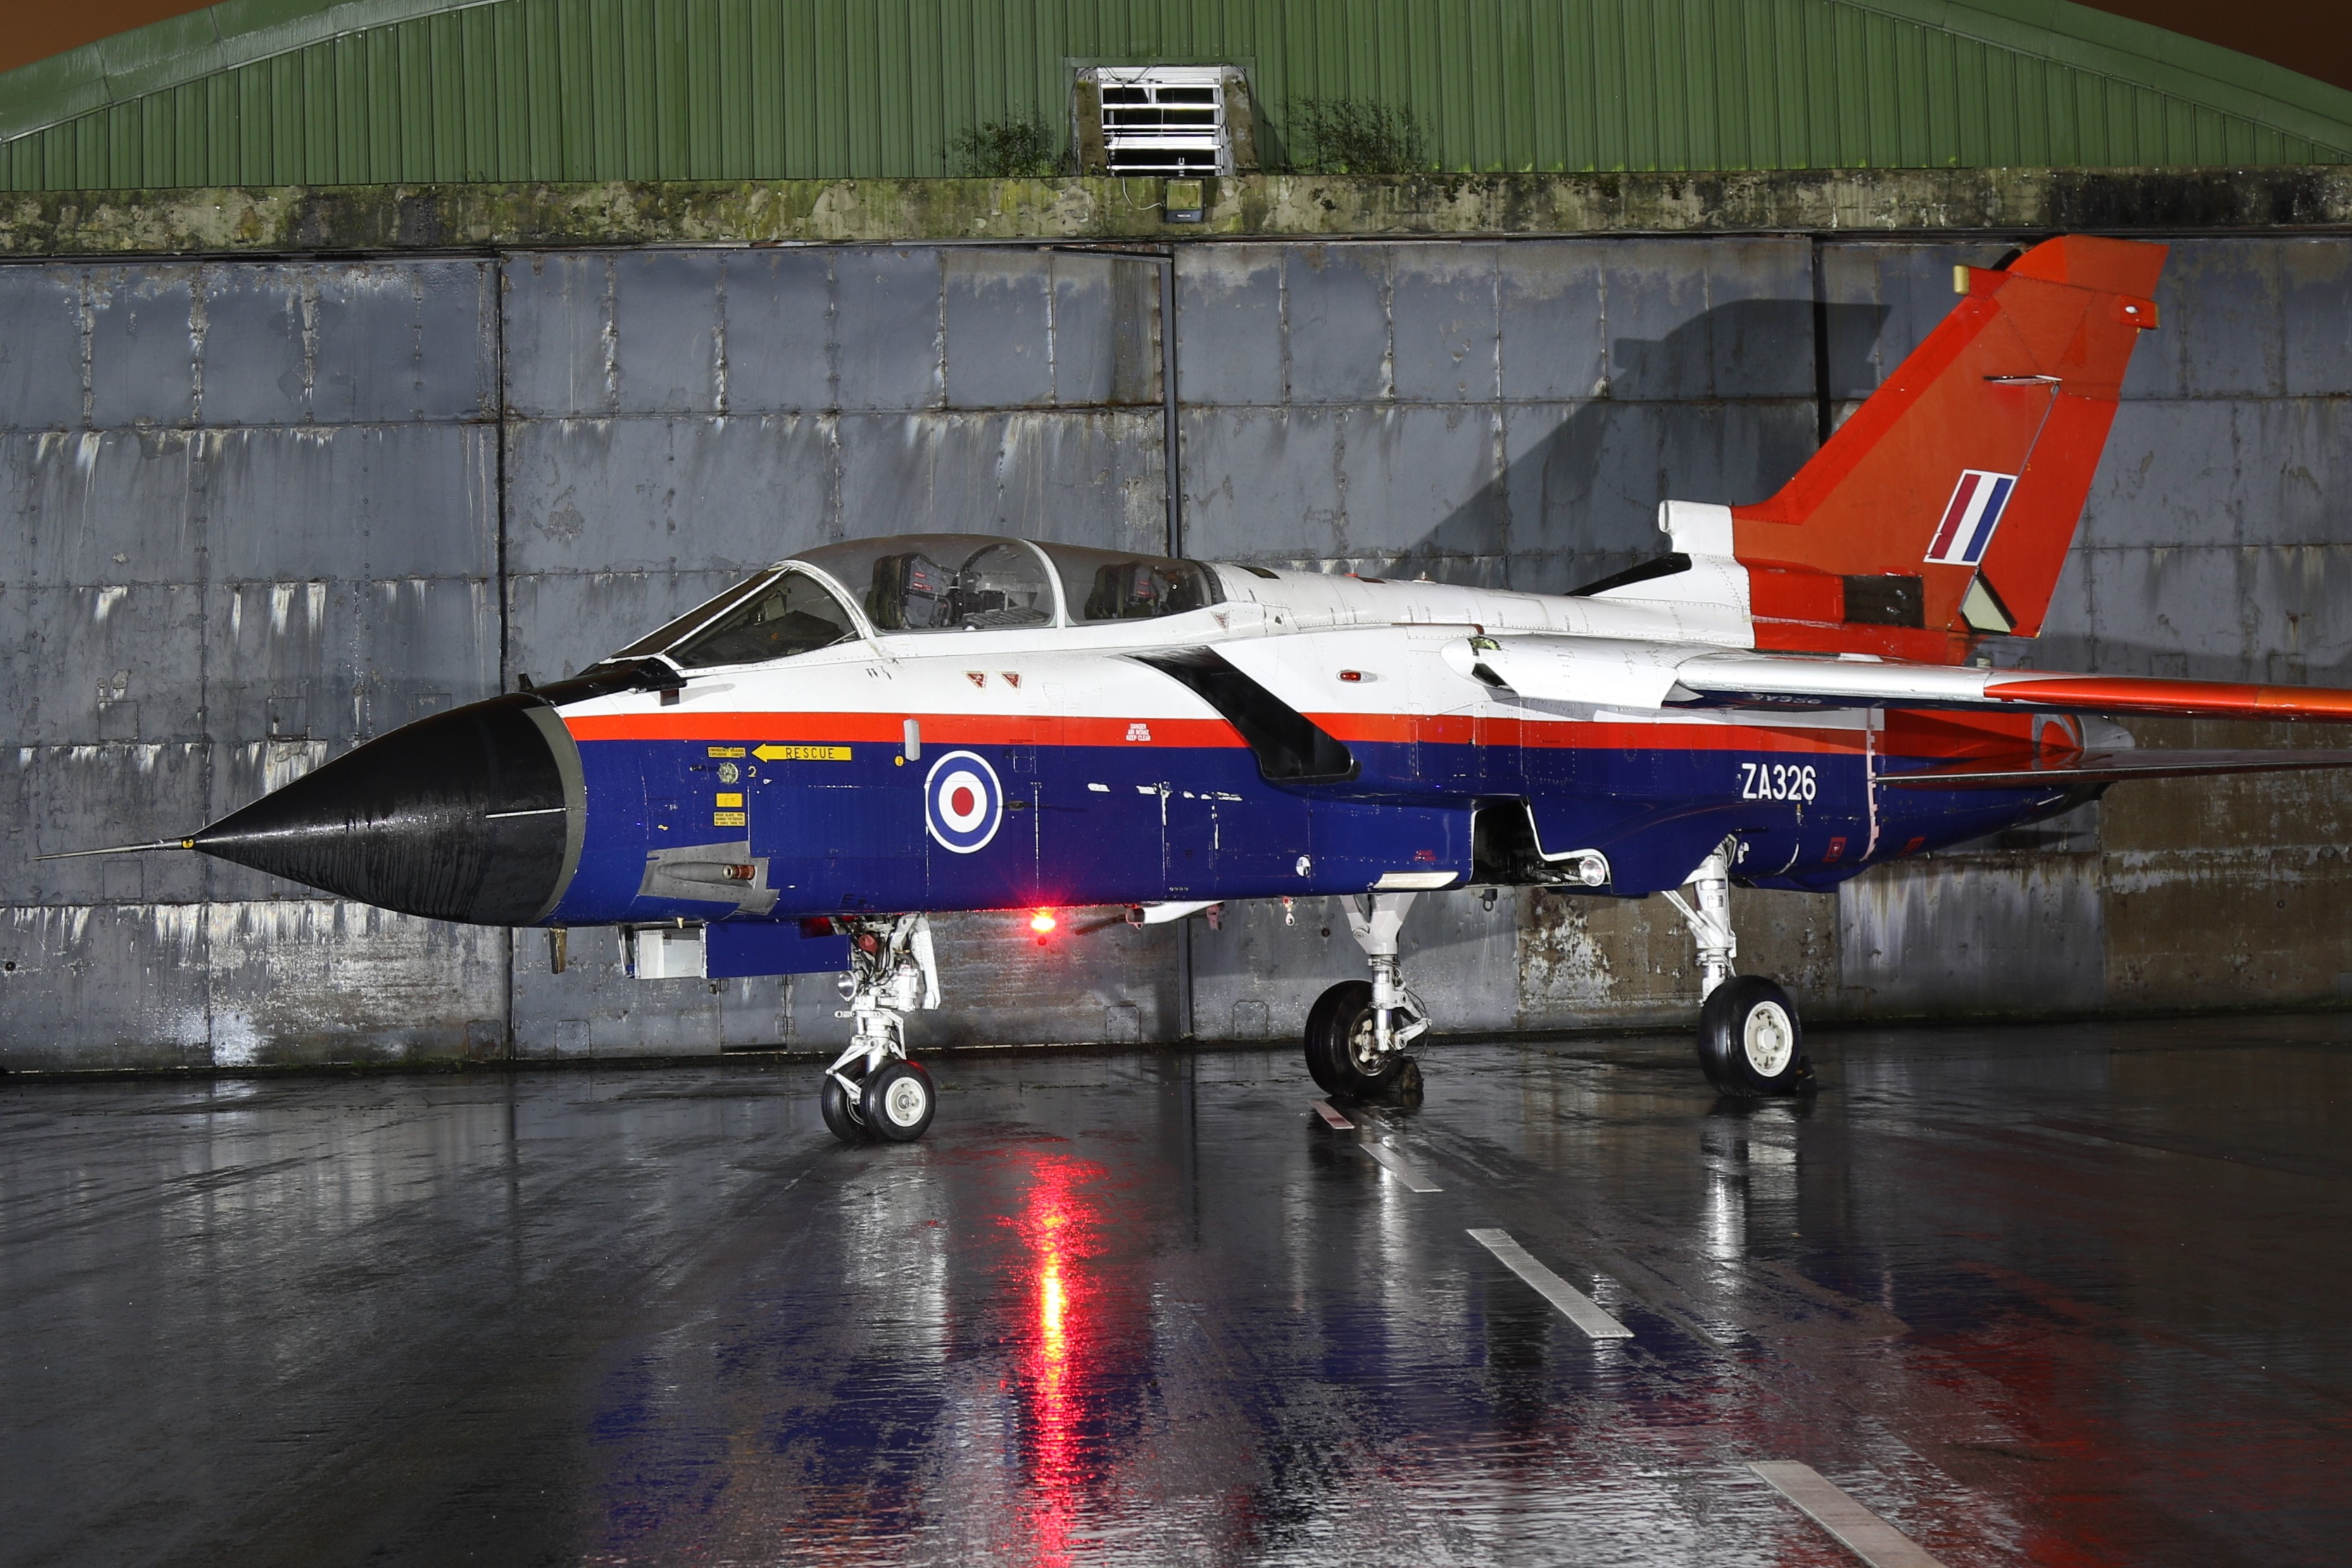Tornado: (30, 233, 2352, 1143)
